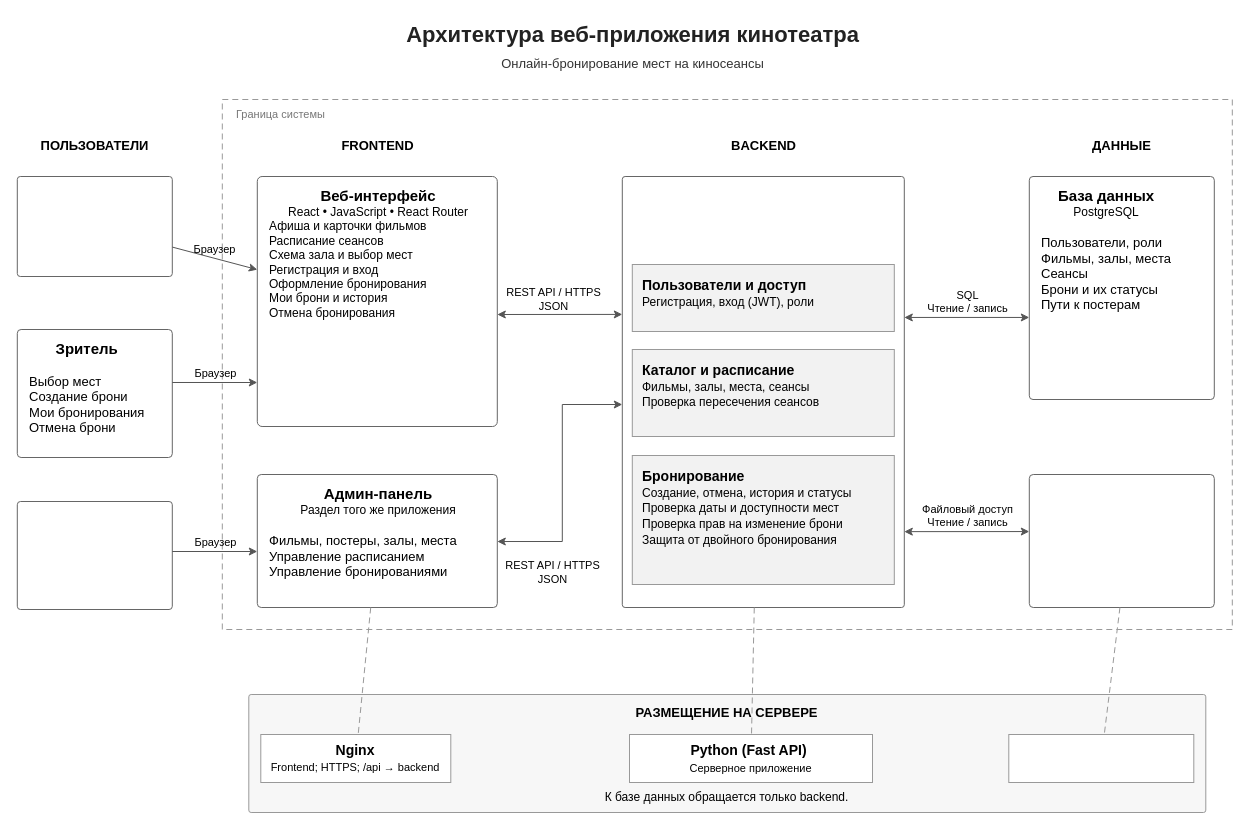
Some shapes in this 1250 by 830 pixel diagram are drawn without their labels. The shapes that lost their labels are listed below. From the top down, each one's box as (x1, y1, x2, y2) in pixels, then its label:
(16, 176, 172, 276): Гость Просмотр афиши Регистрация / вход
(621, 176, 904, 608): Серверное приложение Python(Fast API)
(16, 500, 172, 610): Администратор Фильмы и залы Расписание Брони и их статусы
(1028, 474, 1214, 608): Хранилище файлов Файловая система Постеры фильмов Постоянный каталог на сервере
(1008, 734, 1194, 782): Данные PostgreeSQL и каталог постеров
